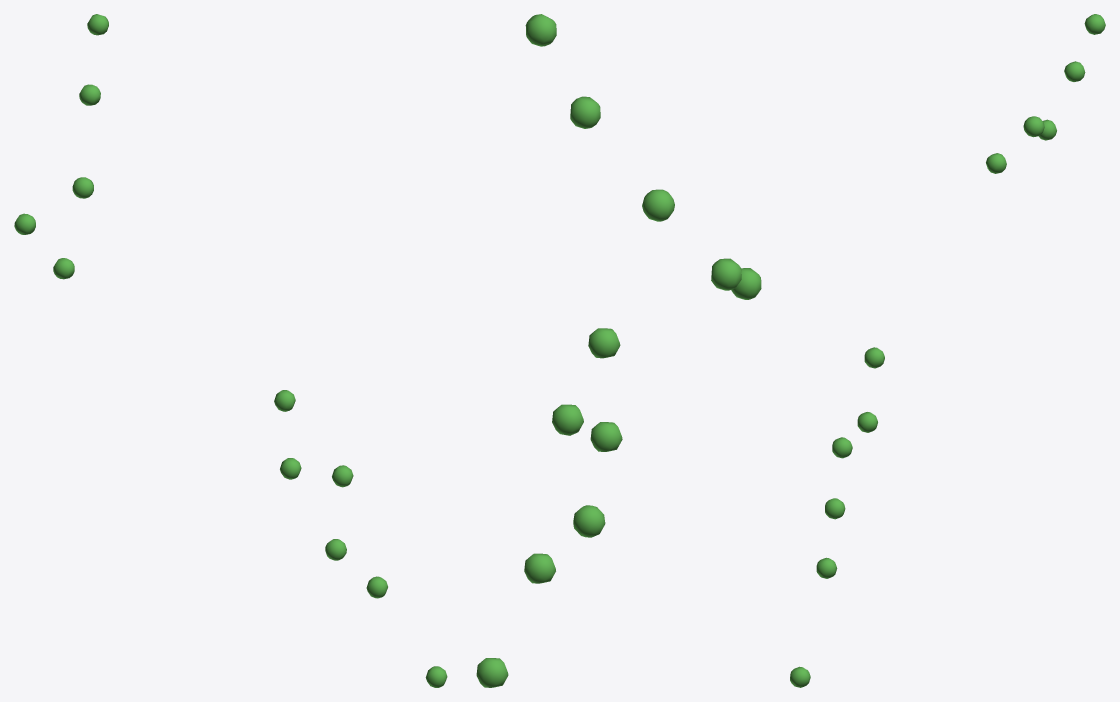
File: linfatico-cubital-nodes-l.glb
The picture shows the model from 3 angles, left to right: view 1: azimuth 30°, elevation 25°; view 2: azimuth 150°, elevation 25°; view 3: azimuth 270°, elevation 25°; orthographic projection. The views are drawn at different scales.
Parts seen in each view (by area): view 1: Cubital nodes.l, Supratrochlear nodes.l; view 2: Cubital nodes.l, Supratrochlear nodes.l; view 3: Cubital nodes.l, Supratrochlear nodes.l.
Part boxes in pixels (x1,y1,x2,y2): Cubital nodes.l: [274, 390, 447, 687]; Supratrochlear nodes.l: [14, 14, 108, 279]; Cubital nodes.l: [476, 328, 622, 687]; Supratrochlear nodes.l: [525, 14, 761, 299]; Cubital nodes.l: [790, 347, 884, 687]; Supratrochlear nodes.l: [986, 14, 1105, 173].
Size of the model in its own units: 0.0411 by 0.0787 by 0.0385.
